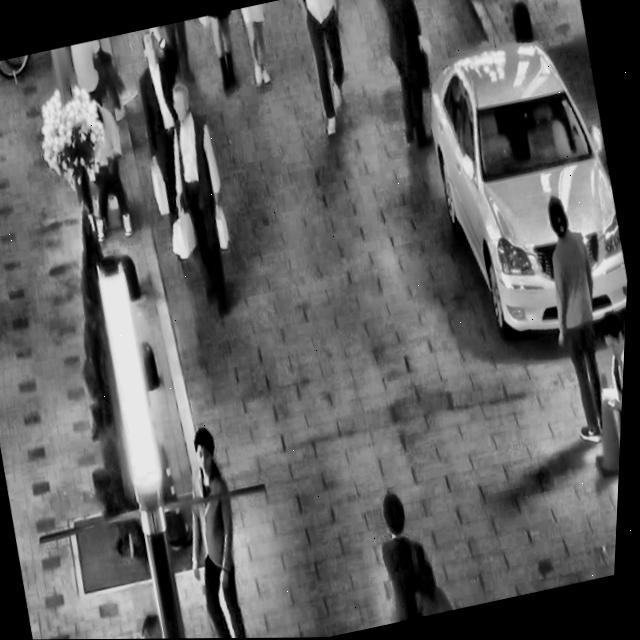light_vehicle: (400, 8, 640, 359)
